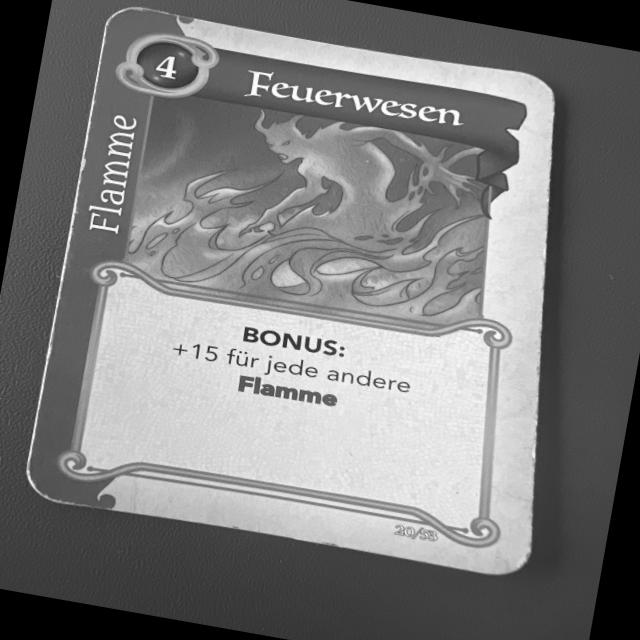Fire Elemental: (18, 0, 558, 581)
